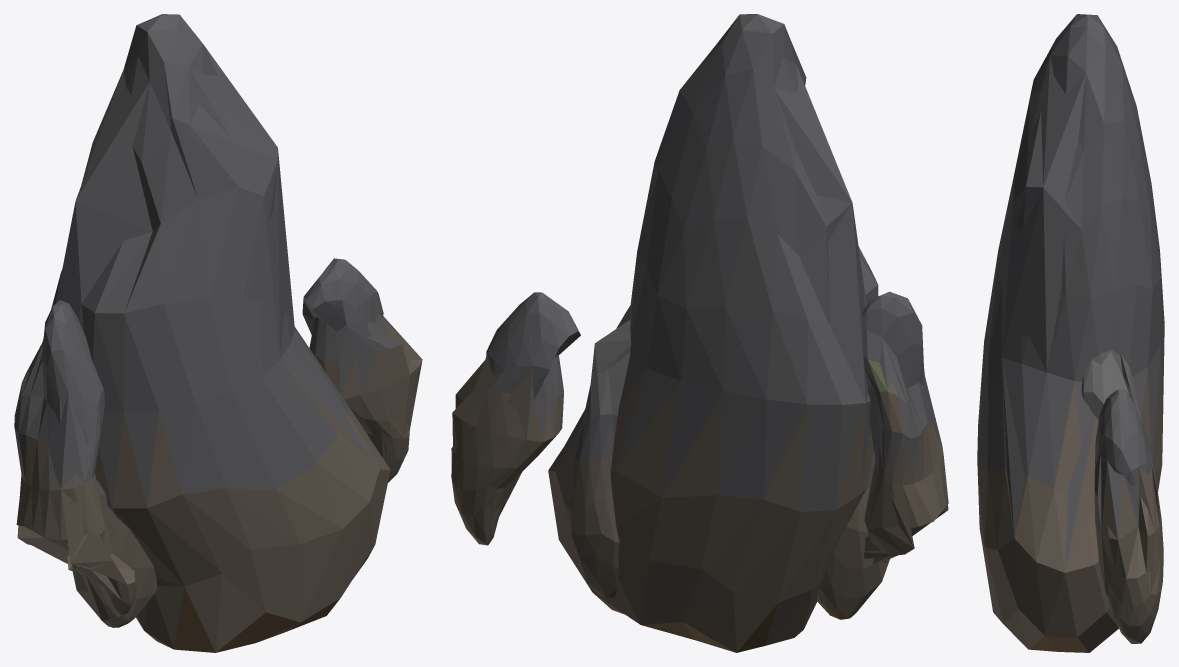
Rendered from StoneOutcrops.fbx.
3 renders of one model, left to right at view 1: azimuth 30°, elevation 25°; view 2: azimuth 150°, elevation 25°; view 3: azimuth 270°, elevation 25°, orthographic. The views are drawn at different scales.
Parts seen in each view (by area): view 1: StoneOutcrop_03, StoneOutcrop_03_Far, StoneOutcrop_02; view 2: StoneOutcrop_03, StoneOutcrop_03_Far, StoneOutcrop_02; view 3: StoneOutcrop_03, StoneOutcrop_03_Far, StoneOutcrop_02.
Part boxes in pixels (x1=…): StoneOutcrop_03: x1=14, y1=14, x2=422, y2=652; StoneOutcrop_03_Far: x1=17, y1=47, x2=421, y2=600; StoneOutcrop_02: x1=71, y1=480, x2=156, y2=627; StoneOutcrop_03: x1=451, y1=14, x2=948, y2=652; StoneOutcrop_03_Far: x1=451, y1=65, x2=948, y2=564; StoneOutcrop_02: x1=571, y1=305, x2=889, y2=619; StoneOutcrop_03: x1=977, y1=14, x2=1164, y2=652; StoneOutcrop_03_Far: x1=997, y1=55, x2=1158, y2=594; StoneOutcrop_02: x1=1081, y1=349, x2=1144, y2=429.
Size of the model in its own units: 24.63 by 33.07 by 9.79.
Materials: 1 (1 with a texture image).
